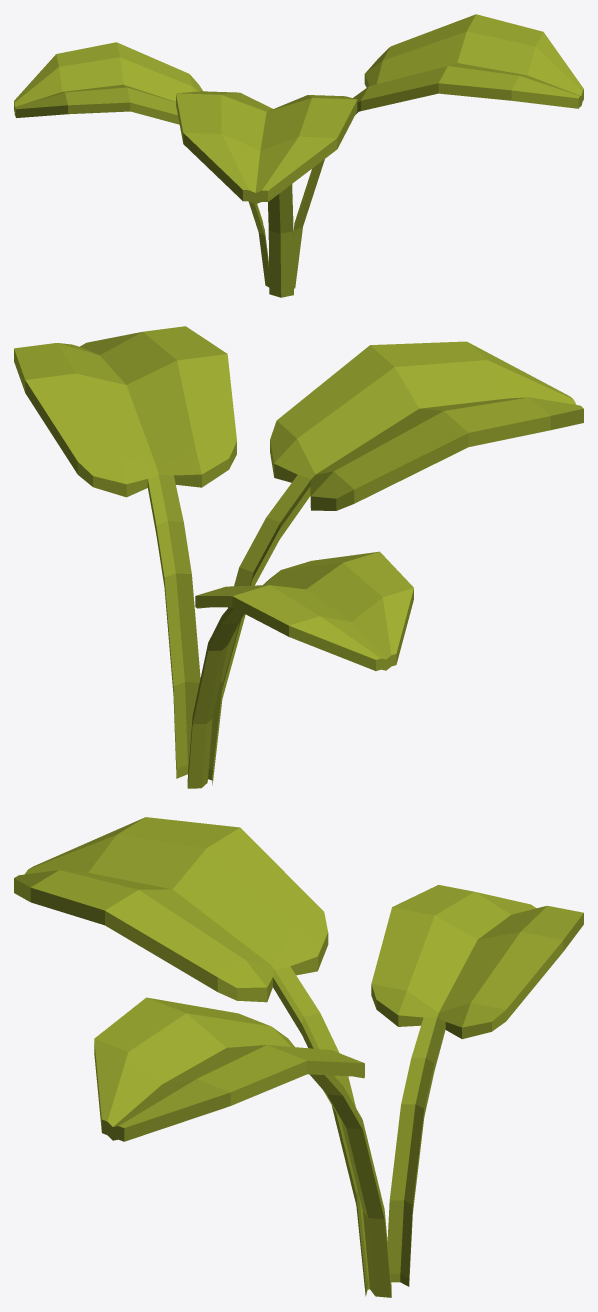
Rendered from Leaf Plant 1.fbx.
3 views of the same model, one above another, from view 1: azimuth 30°, elevation 25°; view 2: azimuth 150°, elevation 25°; view 3: azimuth 270°, elevation 25° (orthographic). The views are drawn at different scales.
Parts seen in each view (by area): view 1: Plant 2; view 2: Plant 2; view 3: Plant 2.
Part boxes in pixels (left/top/right/bottom): Plant 2: left=14, top=14, right=583, bottom=297; Plant 2: left=14, top=326, right=583, bottom=788; Plant 2: left=14, top=817, right=583, bottom=1297.
Size of the model in its own units: 25.86 by 16.52 by 23.45.
